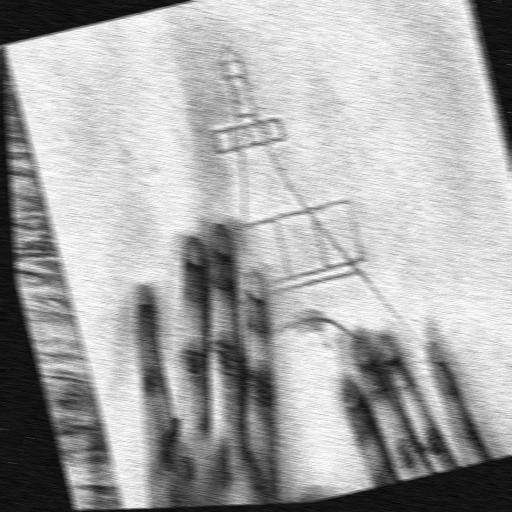eiffel-tower: (77, 0, 458, 454)
